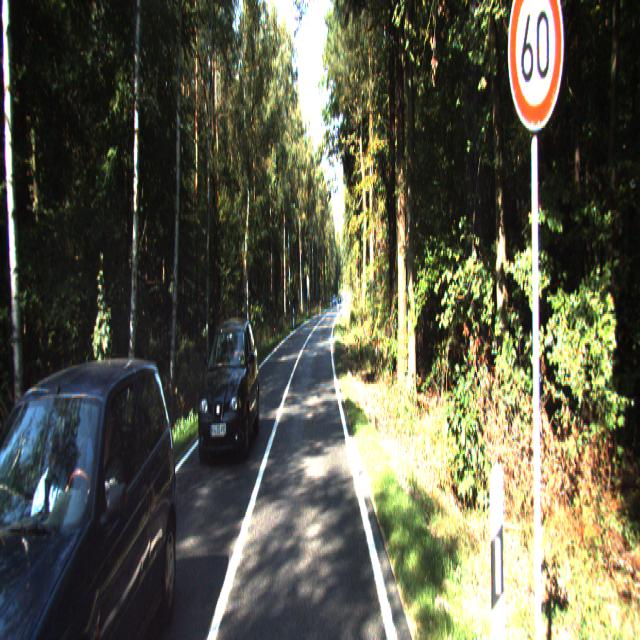Car: (0, 346, 188, 638), (195, 314, 261, 471)
